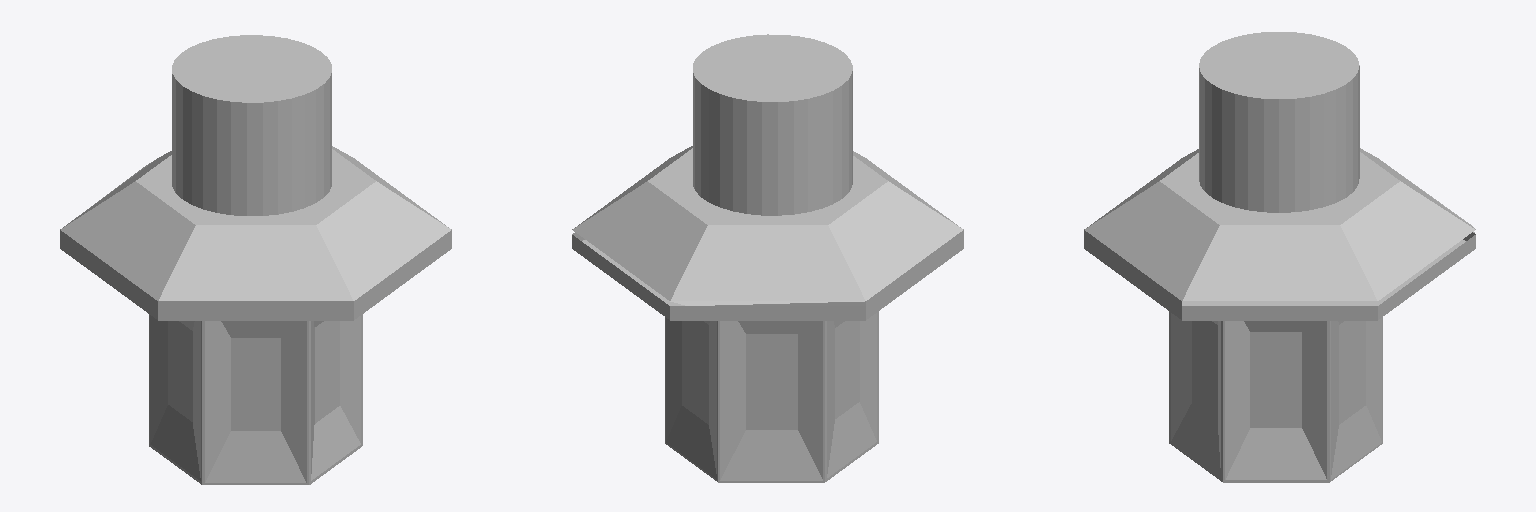
File: tardis_interior.obj
3 renders of one model, left to right at view 1: azimuth 30°, elevation 25°; view 2: azimuth 150°, elevation 25°; view 3: azimuth 270°, elevation 25°, orthographic.
Size of the model in its own units: 3.17 by 3.89 by 3.66.